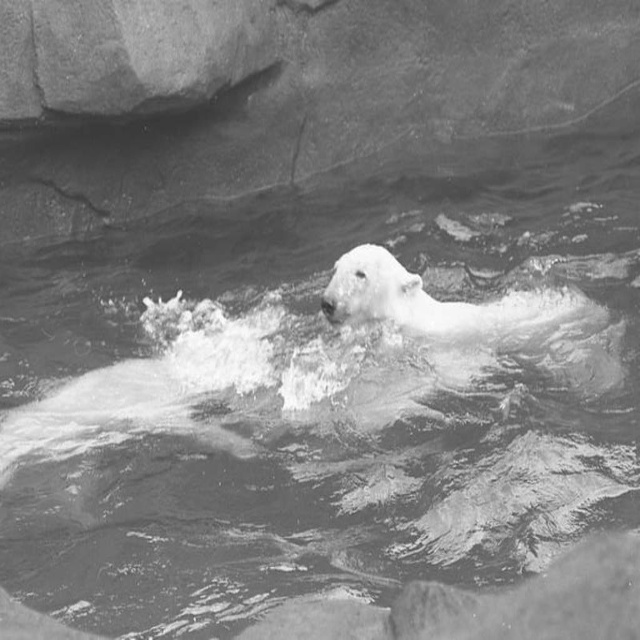Polar bear: (322, 241, 566, 342)
